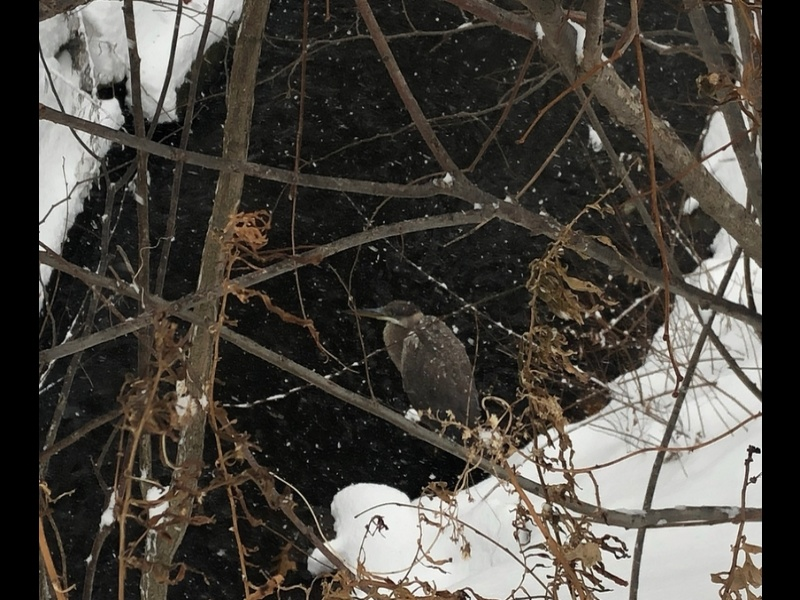heron: (340, 297, 493, 458)
